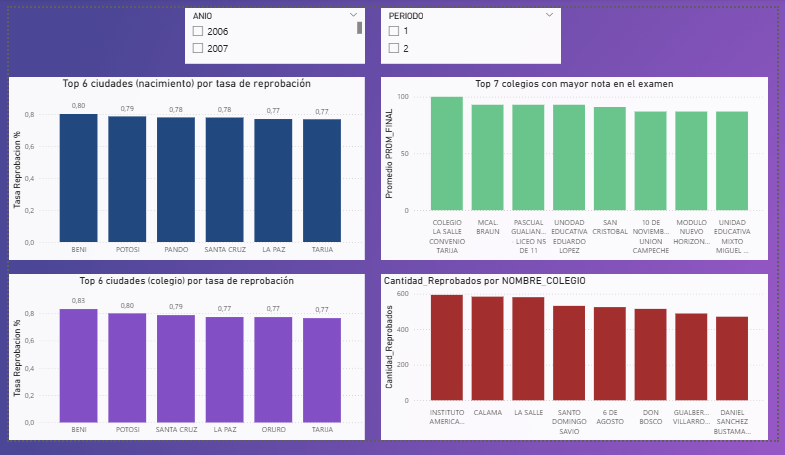

This screenshot's page, from the dashboard's own definition file:
{"tool":"powerbi","page":{"name":"Origen y Colegio-Dashboard3","canvas":[1280,720],"ordinal":2},"visuals":[{"type":"clusteredColumnChart","title":"Top 6 ciudades (nacimiento) por tasa de reprobación","fields":{"Y":["Df_Postulantes.Tasa Reprobacion %"],"Category":["Df_Postulantes.CIUDAD_NACIMIENTO"]},"box":[0,115,592.5,305],"z":0},{"type":"clusteredColumnChart","title":"Top 6 ciudades (colegio) por tasa de reprobación","fields":{"Category":["Df_Postulantes.CIUDAD_COLEGIO"],"Y":["Df_Postulantes.Tasa Reprobacion %"]},"box":[0,442.5,592.5,277.5],"z":1000},{"type":"clusteredColumnChart","title":"Top 7 colegios con mayor nota en el examen","fields":{"Category":["Df_Postulantes.NOMBRE_COLEGIO"],"Y":["Df_Postulantes.Promedio PROM_FINAL"]},"box":[620,115,645,305],"z":2000},{"type":"clusteredColumnChart","fields":{"Category":["Df_Postulantes.NOMBRE_COLEGIO"],"Y":["Df_Postulantes.Cantidad_Reprobados"]},"box":[620,442.5,645,277.5],"z":3000},{"type":"slicer","fields":{"Values":["Df_Postulantes.ANIO"]},"box":[292.5,0,300,92.5],"z":4000},{"type":"slicer","fields":{"Values":["Df_Postulantes.PERIODO"]},"box":[620,0,300,92.5],"z":5000}]}

Visuals, with their boxes in screenshot pixels (x1, y1, x2, y2), scaled from the page's 1280x720 canvas onto the 785x455 screenshot:
"Top 6 ciudades (nacimiento) por tasa de reprobación" clusteredColumnChart: <bbox>0, 73, 363, 265</bbox>
"Top 6 ciudades (colegio) por tasa de reprobación" clusteredColumnChart: <bbox>0, 280, 363, 454</bbox>
"Top 7 colegios con mayor nota en el examen" clusteredColumnChart: <bbox>380, 73, 776, 265</bbox>
clusteredColumnChart - Df_Postulantes.NOMBRE_COLEGIO x Df_Postulantes.Cantidad_Reprobados: <bbox>380, 280, 776, 454</bbox>
slicer - Df_Postulantes.ANIO: <bbox>179, 0, 363, 58</bbox>
slicer - Df_Postulantes.PERIODO: <bbox>380, 0, 564, 58</bbox>
